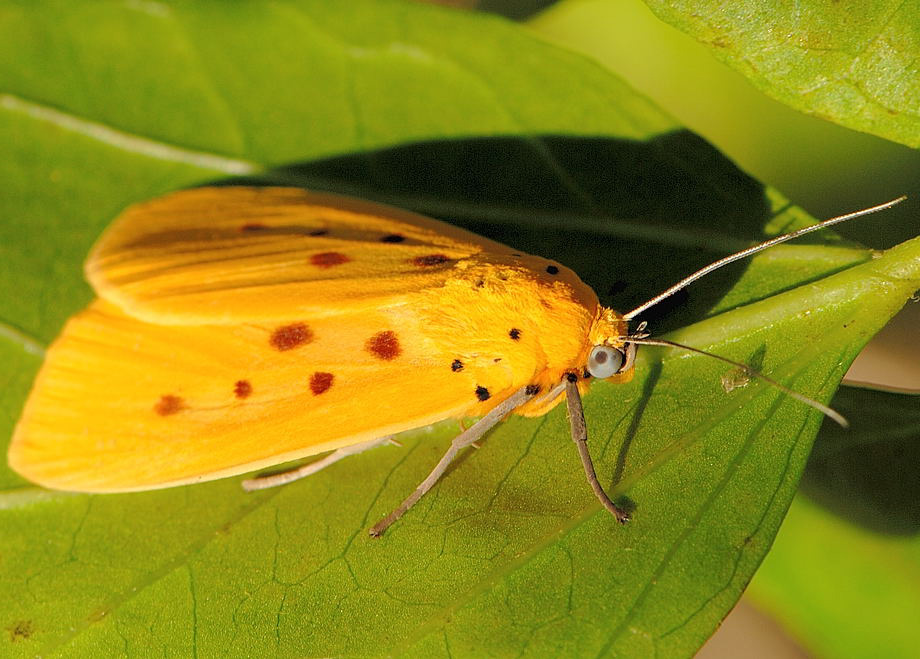Agape chloropyga: (2, 171, 914, 550)
moth: (4, 173, 916, 552)
